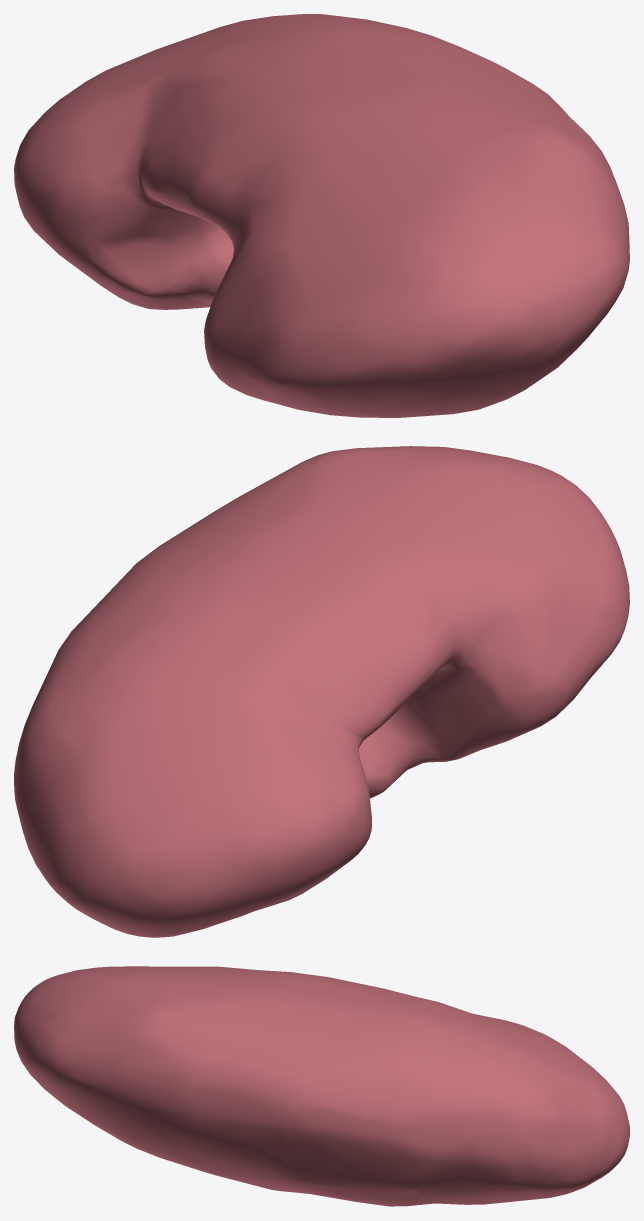
The picture shows the model from 3 angles, top to bottom: view 1: azimuth 30°, elevation 25°; view 2: azimuth 150°, elevation 25°; view 3: azimuth 270°, elevation 25°; orthographic projection. The views are drawn at different scales.
Parts seen in each view (by area): view 1: 左侧肾; view 2: 左侧肾; view 3: 左侧肾.
Boxes of the visible parts, x1,y1,x2,y2 form: 左侧肾: [14, 14, 629, 417]; 左侧肾: [14, 446, 629, 937]; 左侧肾: [14, 966, 629, 1206].
Size of the model in its own units: 0.0848 by 0.0598 by 0.1561.
